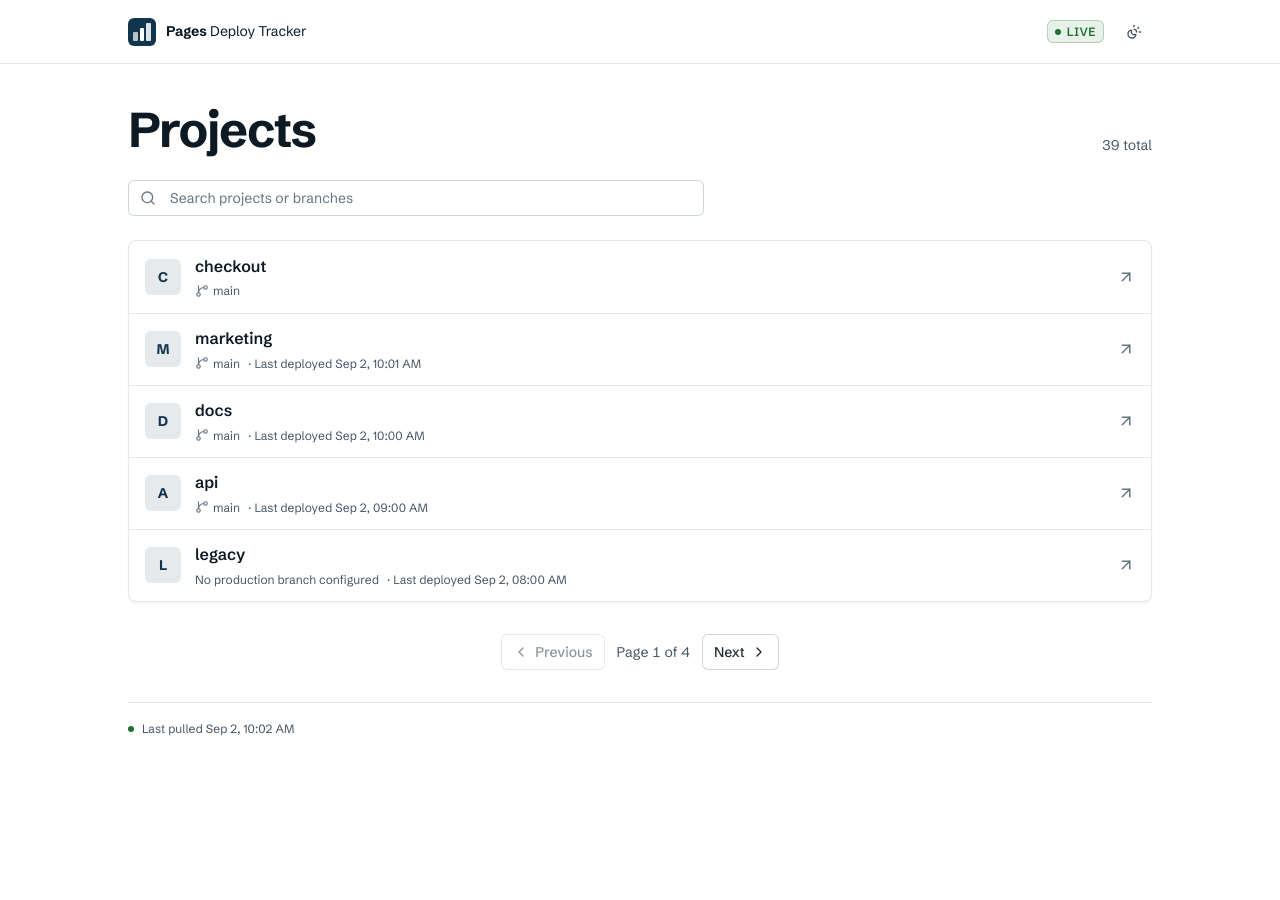
Test: dashboard › lists the selected project's custom domains even without deployments
Step 1. Click the link "C checkout main" → (163, 277), box [145, 256, 1135, 298]
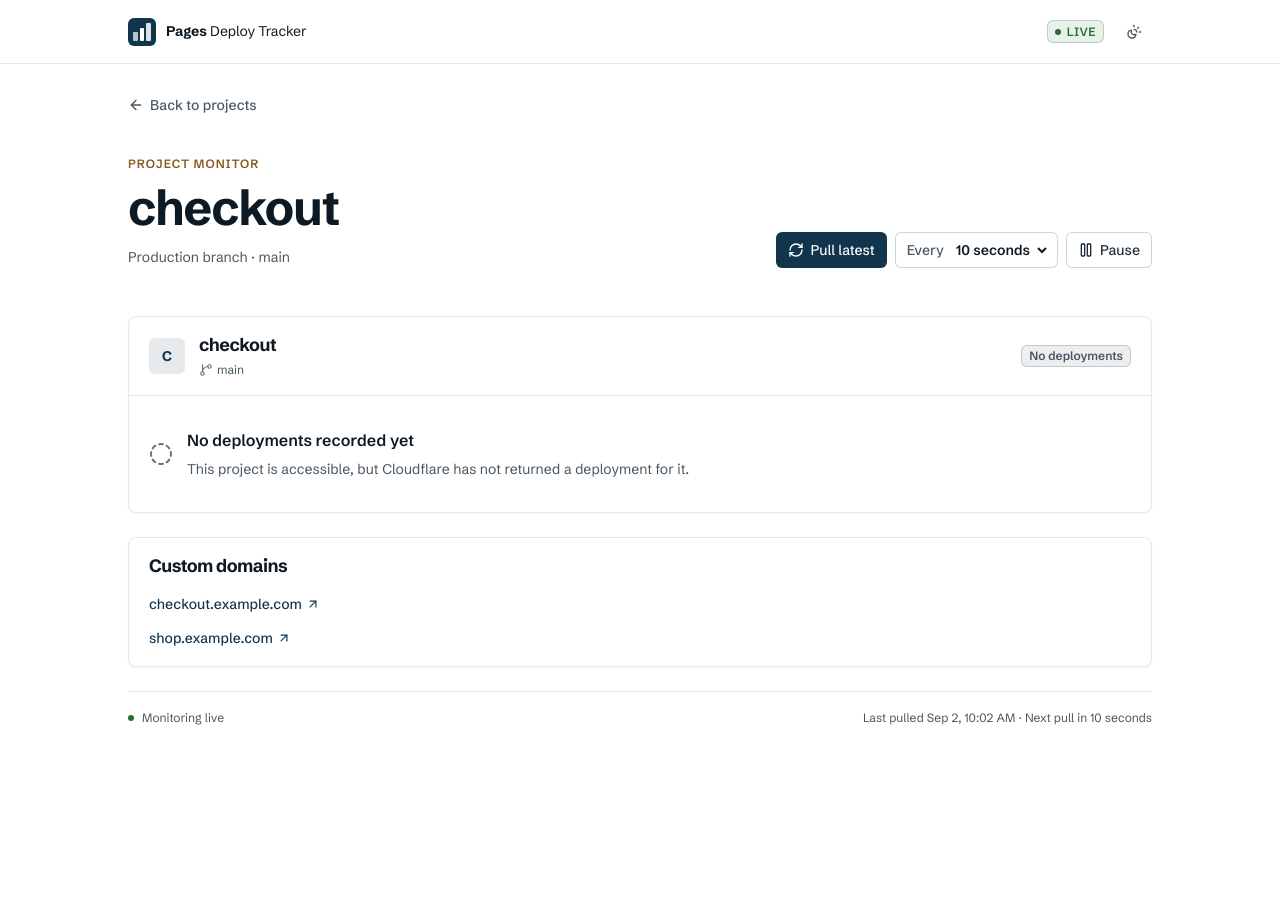
Now the number of list items is 2, box [149, 595, 320, 613]; [149, 629, 291, 647]
Now the text "No deployments recorded yet" is shown, box [187, 430, 414, 450]
